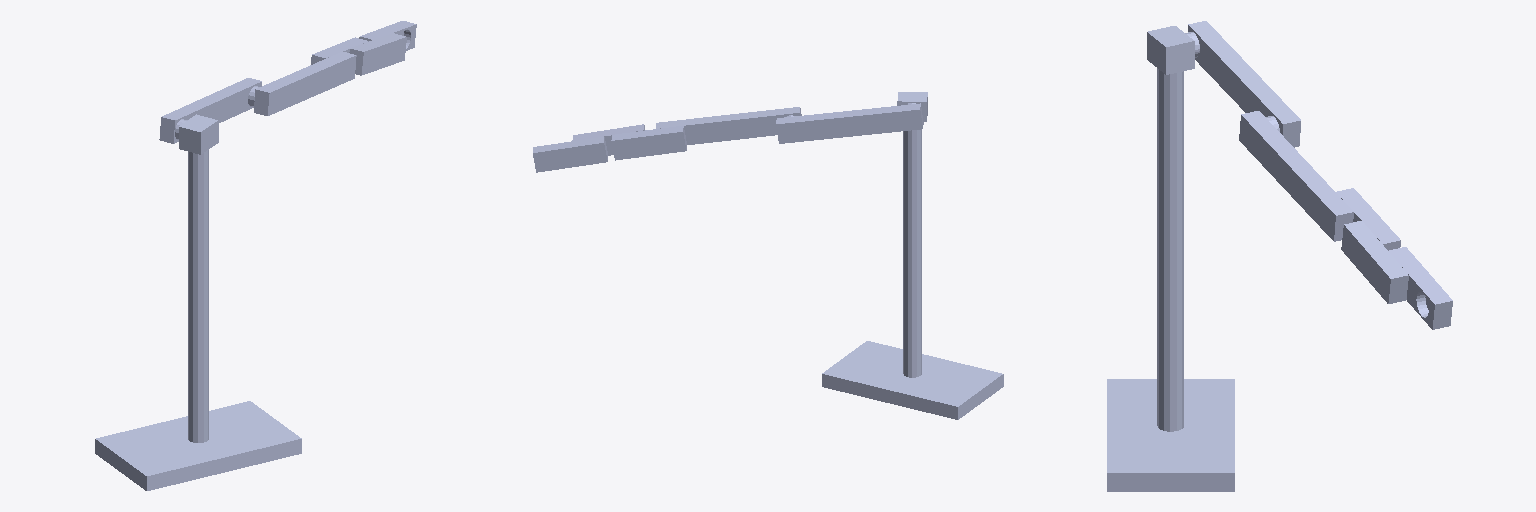
robot.urdf — urdf:
<?xml version="1.0" encoding="utf-8"?>
<!-- This URDF was automatically created by SolidWorks to URDF Exporter! Originally created by [author] ([email redacted]) 
     Commit Version: 1.6.0-4-g7f85cfe  Build Version: 1.6.7995.38578
     For more information, please see http://wiki.ros.org/sw_urdf_exporter -->
<robot
  name="urdf">
  <link name="world" />
  <joint name="world_to_base" type="fixed">
    <parent link="world" />
    <child link="base_link" />
    <origin xyz="0 0 0" rpy="0 0 0" />
  </joint>
  <link
    name="base_link">
    <inertial>
      <origin
        xyz="7.39464030692487E-37 0.00497518035395604 -1.58261138875238E-18"
        rpy="0 0 0" />
      <mass
        value="0.0668483997410034" />
      <inertia
        ixx="2.2462895846101E-05"
        ixy="-1.98954832894814E-40"
        ixz="6.57847844531489E-21"
        iyy="8.77348785237808E-05"
        iyz="1.53787731656788E-24"
        izz="6.63860403141521E-05" />
    </inertial>
    <visual>
      <origin
        xyz="0 0 0"
        rpy="0 0 0" />
      <geometry>
        <mesh
          filename="package://urdf_sim_6dof/meshes/base_link.STL" />
      </geometry>
      <material
        name="">
        <color
          rgba="0.792156862745098 0.819607843137255 0.933333333333333 1" />
      </material>
    </visual>
    <collision>
      <origin
        xyz="0 0 0"
        rpy="0 0 0" />
      <geometry>
        <mesh
          filename="package://urdf_sim_6dof/meshes/base_link.STL" />
      </geometry>
    </collision>
  </link>
  <link
    name="l1">
    <inertial>
      <origin
        xyz="-4.47233396150271E-19 0.114469851476113 0.000115729332966564"
        rpy="0 0 0" />
      <mass
        value="0.030677018968127" />
      <inertia
        ixx="0.000130209033482256"
        ixy="2.38228016415272E-22"
        ixz="1.35525271560688E-20"
        iyy="7.97058979167308E-07"
        iyz="-3.31045646879452E-07"
        izz="0.000130289941570842" />
    </inertial>
    <visual>
      <origin
        xyz="0 0 0"
        rpy="0 0 0" />
      <geometry>
        <mesh
          filename="package://urdf_sim_6dof/meshes/l1.STL" />
      </geometry>
      <material
        name="">
        <color
          rgba="0.792156862745098 0.819607843137255 0.933333333333333 1" />
      </material>
    </visual>
    <collision>
      <origin
        xyz="0 0 0"
        rpy="0 0 0" />
      <geometry>
        <mesh
          filename="package://urdf_sim_6dof/meshes/l1.STL" />
      </geometry>
    </collision>
  </link>
  <joint
    name="base-l1"
    type="continuous">
    <origin
      xyz="0 0 0.005"
      rpy="1.5708 0 0.4874" />
    <parent
      link="base_link" />
    <child
      link="l1" />
    <axis
      xyz="0 1 0" />
  </joint>
  <link
    name="l2">
    <inertial>
      <origin
        xyz="0.0375252841082667 0 -0.0171079946749473"
        rpy="0 0 0" />
      <mass
        value="0.0156636614480709" />
      <inertia
        ixx="5.42911281558323E-07"
        ixy="1.96538113542599E-21"
        ixz="5.75186236513979E-07"
        iyy="1.36310672485375E-05"
        iyz="0"
        izz="1.36646758150697E-05" />
    </inertial>
    <visual>
      <origin
        xyz="0 0 0"
        rpy="0 0 0" />
      <geometry>
        <mesh
          filename="package://urdf_sim_6dof/meshes/l2.STL" />
      </geometry>
      <material
        name="">
        <color
          rgba="0.792156862745098 0.819607843137255 0.933333333333333 1" />
      </material>
    </visual>
    <collision>
      <origin
        xyz="0 0 0"
        rpy="0 0 0" />
      <geometry>
        <mesh
          filename="package://urdf_sim_6dof/meshes/l2.STL" />
      </geometry>
    </collision>
  </link>
  <joint
    name="l1-l2"
    type="continuous">
    <origin
      xyz="0 0.20772 0"
      rpy="0 0 -0.1298" />
    <parent
      link="l1" />
    <child
      link="l2" />
    <axis
      xyz="0 0 1" />
  </joint>
  <link
    name="l3">
    <inertial>
      <origin
        xyz="0.0375252841082671 1.38777878078145E-16 0.0035909270505925"
        rpy="0 0 0" />
      <mass
        value="0.0156636614480709" />
      <inertia
        ixx="5.42911281558326E-07"
        ixy="-4.24839962607235E-21"
        ixz="5.75186236513974E-07"
        iyy="1.36310672485375E-05"
        iyz="1.05879118406788E-22"
        izz="1.36646758150697E-05" />
    </inertial>
    <visual>
      <origin
        xyz="0 0 0"
        rpy="0 0 0" />
      <geometry>
        <mesh
          filename="package://urdf_sim_6dof/meshes/l3.STL" />
      </geometry>
      <material
        name="">
        <color
          rgba="0.792156862745098 0.819607843137255 0.933333333333333 1" />
      </material>
    </visual>
    <collision>
      <origin
        xyz="0 0 0"
        rpy="0 0 0" />
      <geometry>
        <mesh
          filename="package://urdf_sim_6dof/meshes/l3.STL" />
      </geometry>
    </collision>
  </link>
  <joint
    name="l2-l3"
    type="continuous">
    <origin
      xyz="0.083998 0 0"
      rpy="3.1416 0 -0.009783" />
    <parent
      link="l2" />
    <child
      link="l3" />
    <axis
      xyz="0 0 1" />
  </joint>
  <link
    name="l4">
    <inertial>
      <origin
        xyz="0.011900648780722 5.27355936696949E-16 -0.0124070198973897"
        rpy="0 0 0" />
      <mass
        value="0.00749999999999999" />
      <inertia
        ixx="2.3483991734469E-07"
        ixy="4.6859781701129E-22"
        ixz="8.51956560055316E-08"
        iyy="1.63279009857261E-06"
        iyz="5.9557004103818E-23"
        izz="1.67920018122792E-06" />
    </inertial>
    <visual>
      <origin
        xyz="0 0 0"
        rpy="0 0 0" />
      <geometry>
        <mesh
          filename="package://urdf_sim_6dof/meshes/l4.STL" />
      </geometry>
      <material
        name="">
        <color
          rgba="0.792156862745098 0.819607843137255 0.933333333333333 1" />
      </material>
    </visual>
    <collision>
      <origin
        xyz="0 0 0"
        rpy="0 0 0" />
      <geometry>
        <mesh
          filename="package://urdf_sim_6dof/meshes/l4.STL" />
      </geometry>
    </collision>
  </link>
  <joint
    name="l3-l4"
    type="continuous">
    <origin
      xyz="0.083998 0 0"
      rpy="3.1416 0 0.019524" />
    <parent
      link="l3" />
    <child
      link="l4" />
    <axis
      xyz="0 0 1" />
  </joint>
  <link
    name="l5">
    <inertial>
      <origin
        xyz="0.0119006487807222 -3.60822483003176E-16 0.00329190182814997"
        rpy="0 0 0" />
      <mass
        value="0.00750000000000001" />
      <inertia
        ixx="2.34839917344691E-07"
        ixy="5.39321759384574E-22"
        ixz="8.51956560055317E-08"
        iyy="1.63279009857262E-06"
        iyz="3.97046694025453E-23"
        izz="1.67920018122793E-06" />
    </inertial>
    <visual>
      <origin
        xyz="0 0 0"
        rpy="0 0 0" />
      <geometry>
        <mesh
          filename="package://urdf_sim_6dof/meshes/l5.STL" />
      </geometry>
      <material
        name="">
        <color
          rgba="0.792156862745098 0.819607843137255 0.933333333333333 1" />
      </material>
    </visual>
    <collision>
      <origin
        xyz="0 0 0"
        rpy="0 0 0" />
      <geometry>
        <mesh
          filename="package://urdf_sim_6dof/meshes/l5.STL" />
      </geometry>
    </collision>
  </link>
  <joint
    name="l4-l5"
    type="continuous">
    <origin
      xyz="0.027548 0 0"
      rpy="-3.1416 0 -0.026883" />
    <parent
      link="l4" />
    <child
      link="l5" />
    <axis
      xyz="0 0 1" />
  </joint>
  <link
    name="l6">
    <inertial>
      <origin
        xyz="0.0119006487807223 4.16333634234434E-16 -0.0124070198973874"
        rpy="0 0 0" />
      <mass
        value="0.0075" />
      <inertia
        ixx="2.34839917344691E-07"
        ixy="-1.46514365998455E-21"
        ixz="8.51956560055324E-08"
        iyy="1.63279009857262E-06"
        iyz="5.29395592033938E-23"
        izz="1.67920018122793E-06" />
    </inertial>
    <visual>
      <origin
        xyz="0 0 0"
        rpy="0 0 0" />
      <geometry>
        <mesh
          filename="package://urdf_sim_6dof/meshes/l6.STL" />
      </geometry>
      <material
        name="">
        <color
          rgba="0.792156862745098 0.819607843137255 0.933333333333333 1" />
      </material>
    </visual>
    <collision>
      <origin
        xyz="0 0 0"
        rpy="0 0 0" />
      <geometry>
        <mesh
          filename="package://urdf_sim_6dof/meshes/l6.STL" />
      </geometry>
    </collision>
  </link>
  <joint
    name="l5-l6"
    type="continuous">
    <origin
      xyz="0.027548 0 0"
      rpy="-3.1416 0 -0.0078705" />
    <parent
      link="l5" />
    <child
      link="l6" />
    <axis
      xyz="0 0 1" />
  </joint>
</robot>

--- Facts derived from the render (not from the file) ---
Views: 3 orthographic renders of the robot side by side, from view 1: azimuth 30°, elevation 25°; view 2: azimuth 150°, elevation 25°; view 3: azimuth 270°, elevation 25°.
Robot: urdf — 8 links, 7 joints (6 continuous, 1 fixed); root link world; default pose: every joint at zero.
Visible links, largest first — view 1: base_link, l1, l3, l2, l5, l6; view 2: base_link, l1, l2, l3, l4, l6, l5; view 3: base_link, l1, l3, l2, l5, l6, l4.
Boxes of the visible links, <box> form: base_link: <box>95,401,301,490</box>; l1: <box>179,114,218,442</box>; l3: <box>248,51,356,115</box>; l2: <box>159,78,261,143</box>; l5: <box>349,33,406,75</box>; l6: <box>359,21,416,50</box>; base_link: <box>822,341,1003,419</box>; l1: <box>897,92,927,377</box>; l2: <box>776,103,923,143</box>; l3: <box>656,107,801,144</box>; l4: <box>611,126,686,160</box>; l6: <box>533,137,607,172</box>; l5: <box>572,124,644,155</box>; base_link: <box>1107,379,1234,491</box>; l1: <box>1147,26,1194,431</box>; l3: <box>1239,111,1353,241</box>; l2: <box>1185,21,1300,147</box>; l5: <box>1341,221,1408,303</box>; l6: <box>1389,247,1452,329</box>; l4: <box>1336,188,1400,250</box>.
Bounding box of the posed robot: 0.2808 × 0.1691 × 0.2211 m (x, y, z).
Meshes: 7 distinct files referenced, 7 mesh visuals loaded (7 binary STL).